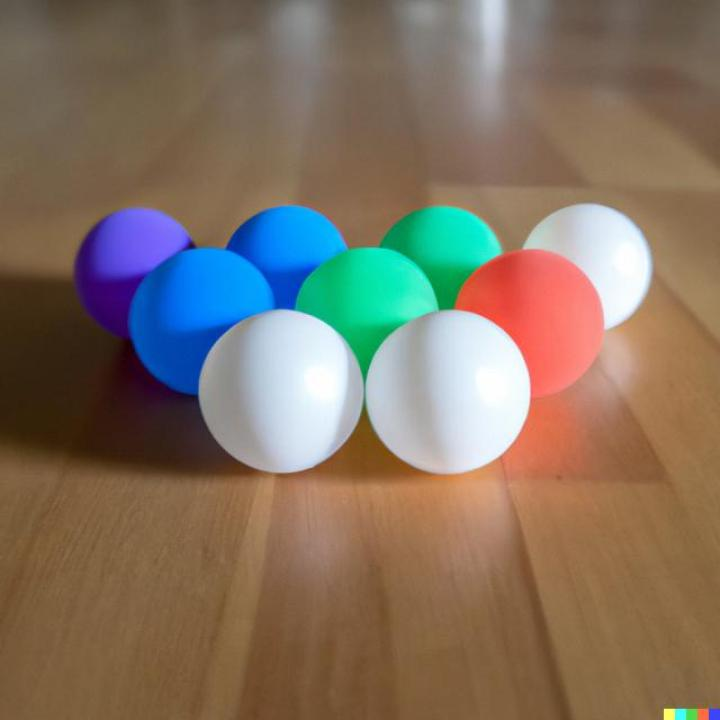white: (366, 309, 531, 476), (200, 311, 364, 474), (524, 205, 653, 331)
